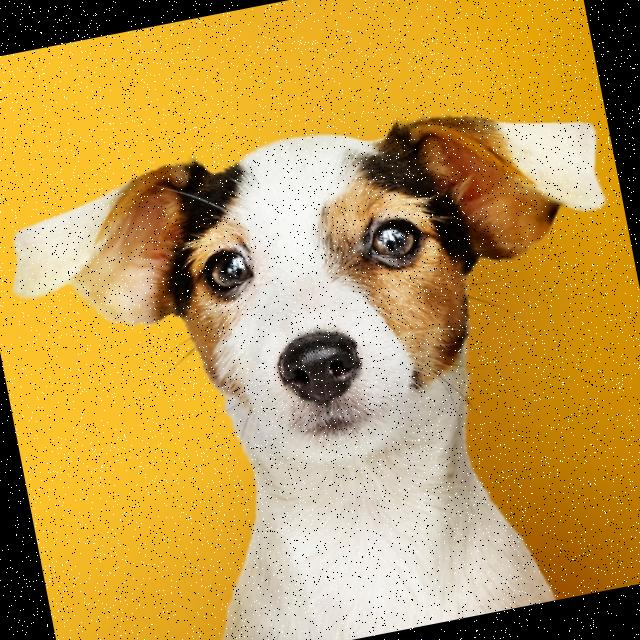Dog: (0, 82, 640, 640)
